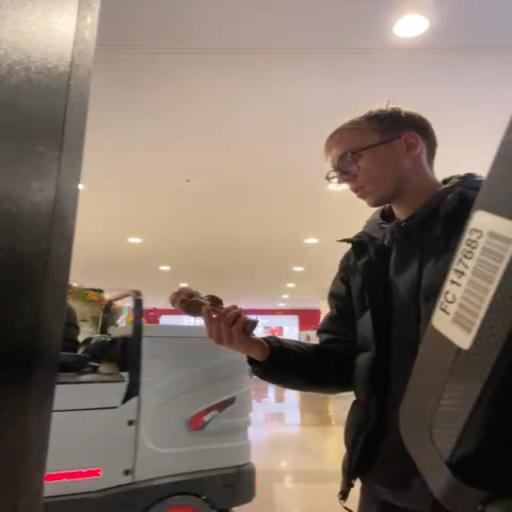kendama_ball: (169, 288, 201, 312)
